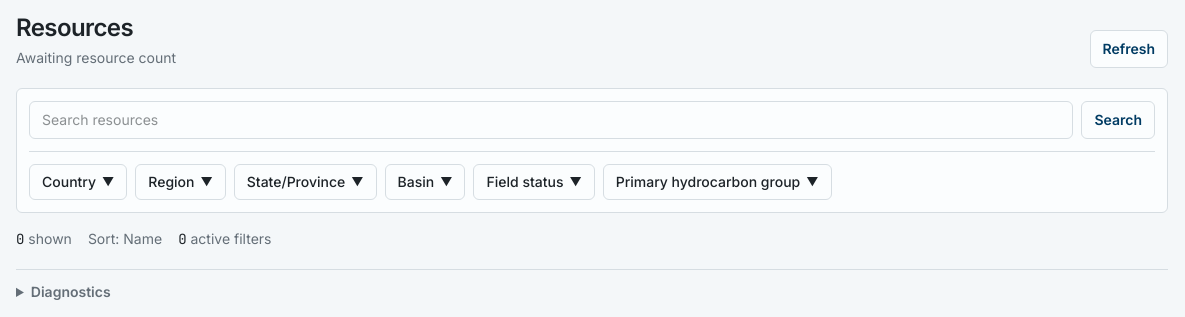
Scenario: ResourcesView › search › shows the clear search button when the input has text
Type "g" into the search field labelled "Search resources" at (551, 120), box top-left (29, 101), bottom-right (1074, 139)
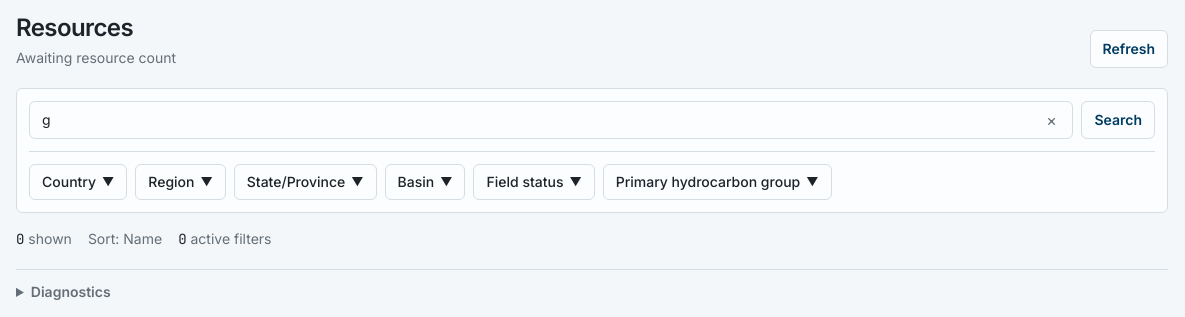
Expected: the button named "clear search" is shown, top-left (1038, 106), bottom-right (1066, 134)
